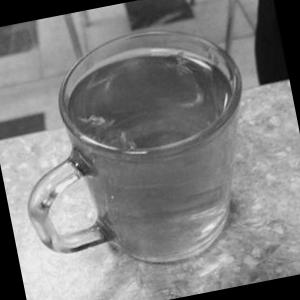tea: (19, 11, 270, 290)
